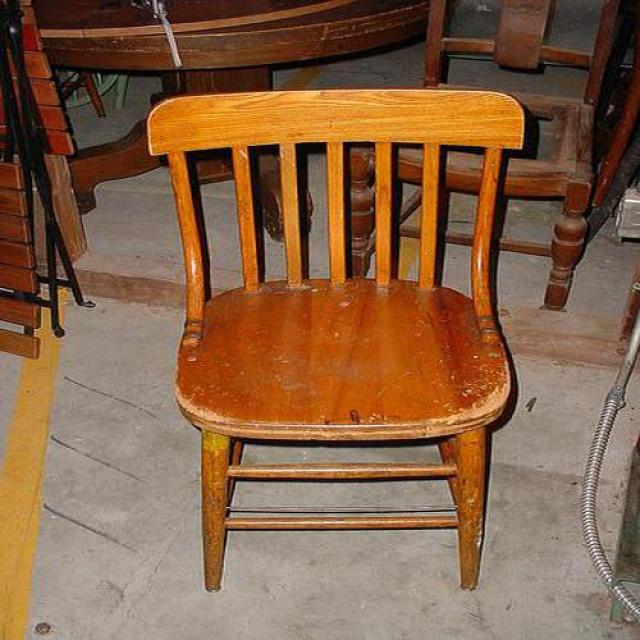chair: (143, 90, 525, 594)
